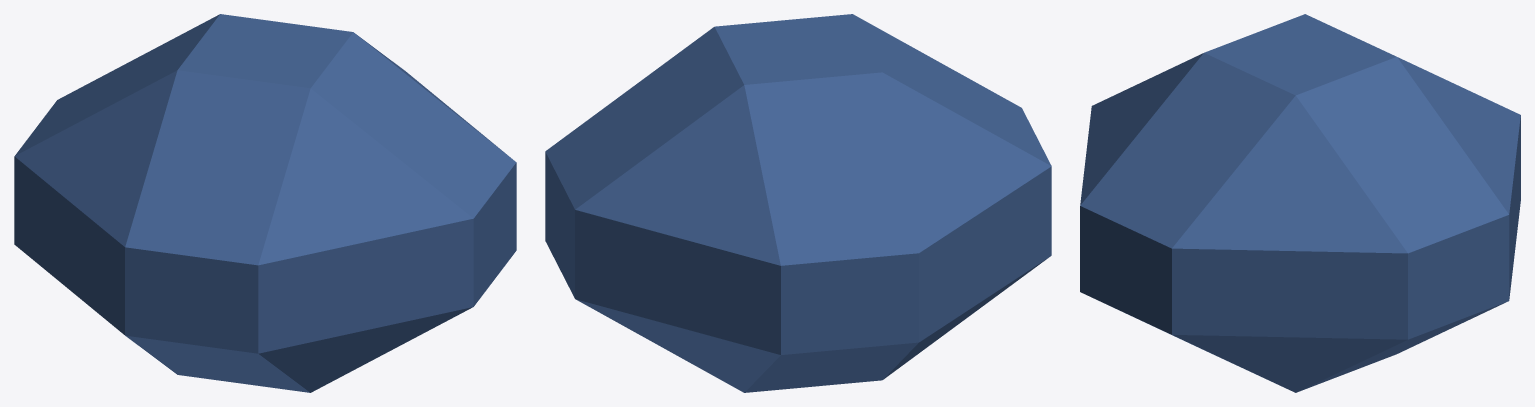
Rendered from tree-winter-leaves-021.glb.
3 renders of one model, left to right at view 1: azimuth 30°, elevation 25°; view 2: azimuth 150°, elevation 25°; view 3: azimuth 270°, elevation 25°, orthographic. The views are drawn at different scales.
Parts seen in each view (by area): view 1: Cube.048_151; view 2: Cube.048_151; view 3: Cube.048_151.
Boxes of the visible parts, x1,y1,x2,y2 form: Cube.048_151: [14, 14, 516, 392]; Cube.048_151: [545, 14, 1051, 392]; Cube.048_151: [1080, 14, 1520, 392].
Bounding box in the file's own units: 0.6002 × 0.447 × 0.6002.
